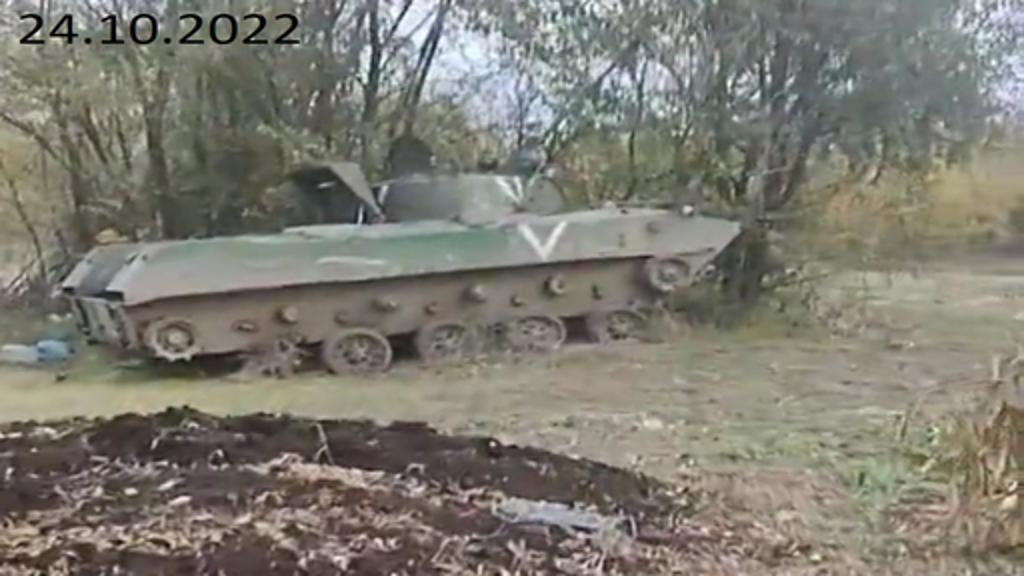APC-IFV: (70, 156, 756, 410)
